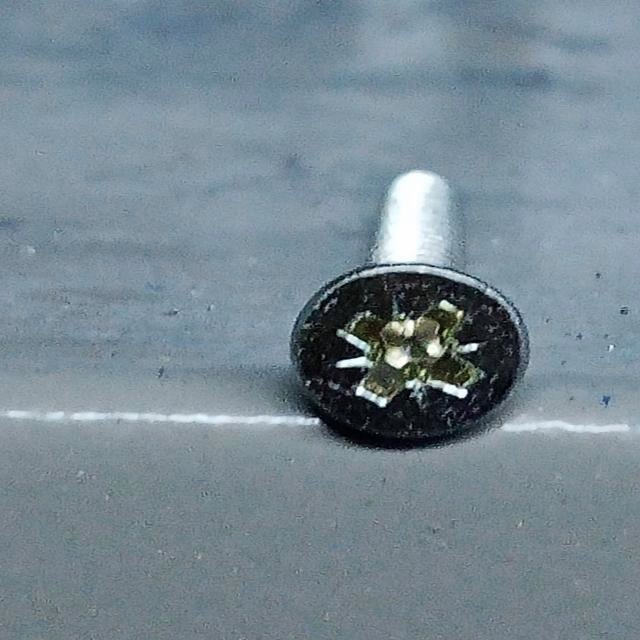pozidriv: (289, 262, 531, 447)
